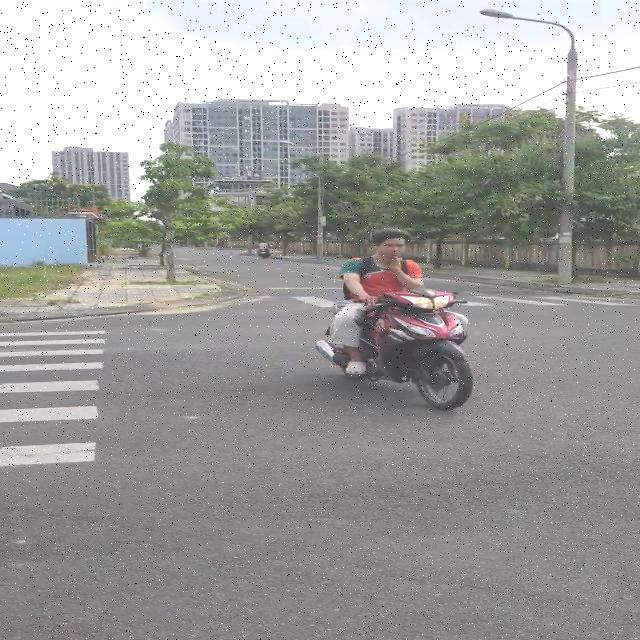no_helmet: (364, 224, 416, 266)
